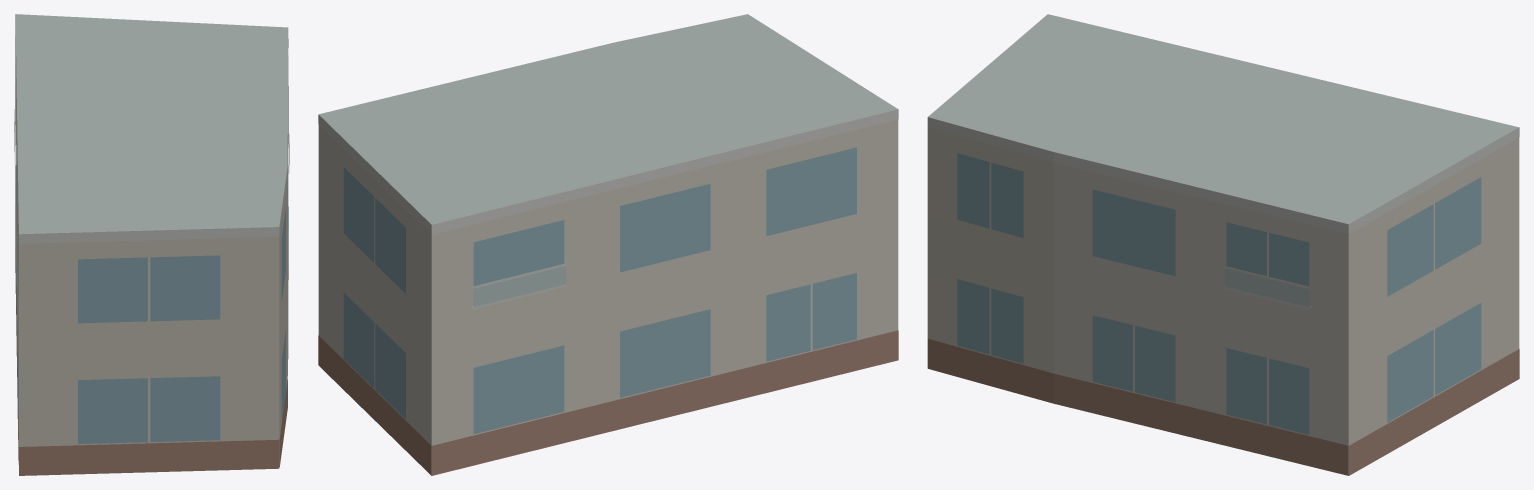
Rendered from survey-upis-32795387.glb.
The picture shows the model from 3 angles, left to right: view 1: azimuth 30°, elevation 25°; view 2: azimuth 150°, elevation 25°; view 3: azimuth 270°, elevation 25°; orthographic projection. The views are drawn at different scales.
Visible parts, largest first — view 1: survey-upis-32795387.tmp; view 2: survey-upis-32795387.tmp; view 3: survey-upis-32795387.tmp.
Part boxes in pixels (x1,y1,x2,y2): survey-upis-32795387.tmp: (14,14,289,475); survey-upis-32795387.tmp: (318,14,898,475); survey-upis-32795387.tmp: (927,14,1519,475).
Bounding box in the file's own units: 10.94 × 6.1 × 13.01.
